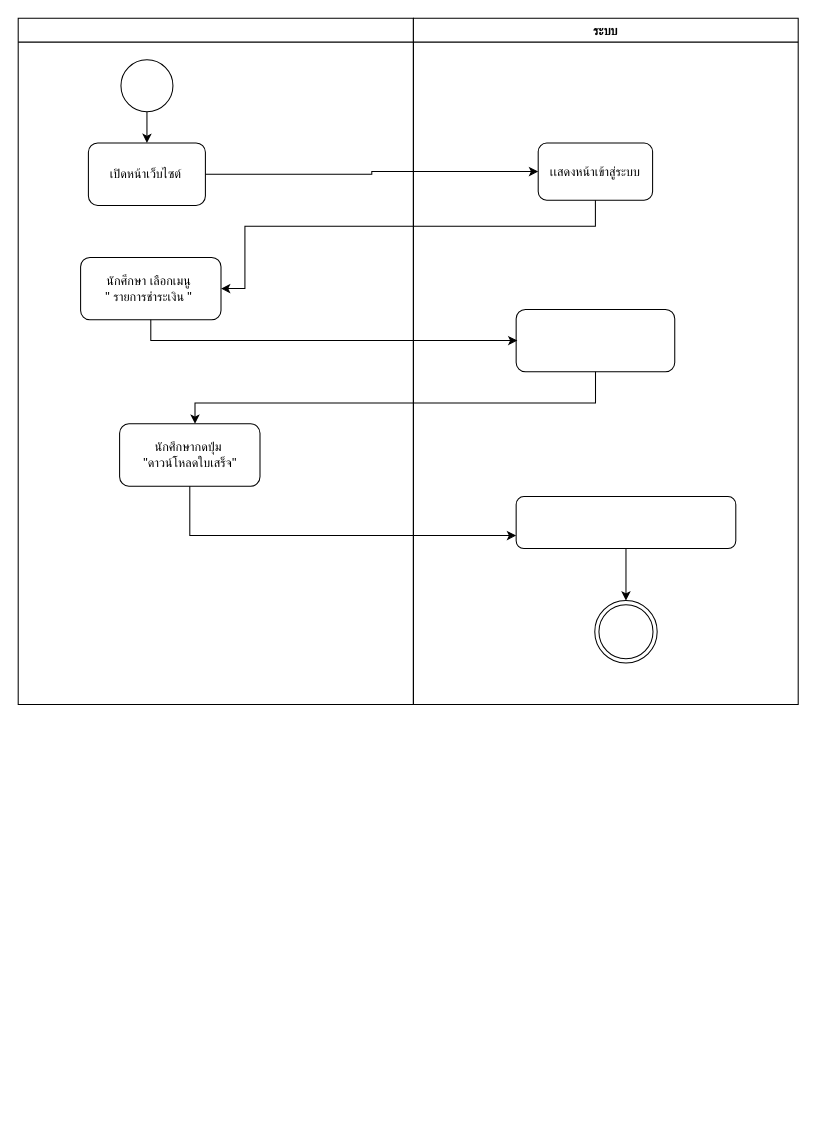
Image size: 816x1137. Some labels were removed from this diagram. Each missing label, with the box of its shape:
ผู้ใช้งาน: (17, 17, 413, 705)
ระบบสร้างไฟล์ PDF ที่มีตราสัญลักษณ์หอพัก เเละ ข้อมูลการชำระเงินที่ถูกต้อง: (515, 496, 736, 549)
ระบบเเสดง รายการชำระเงินที่มีสถานะ " ชำระเงินสำเร็จ ": (515, 308, 675, 372)
